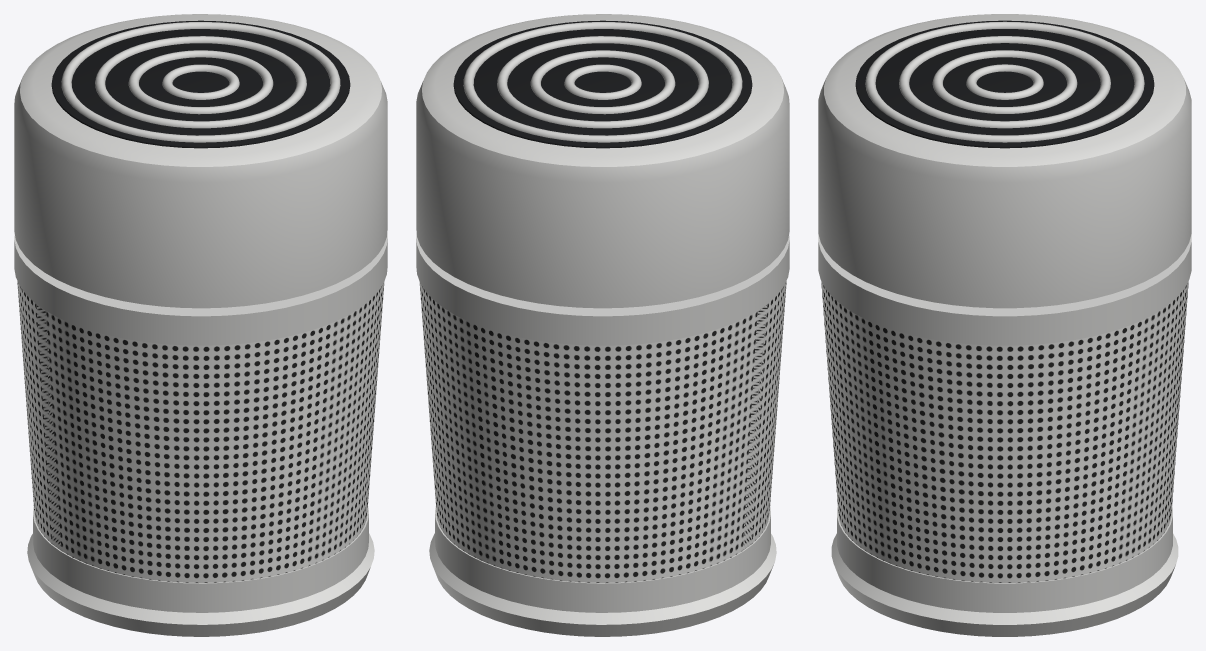
File: AS076MWHC.glb
3 views of the same model, side by side, from view 1: azimuth 30°, elevation 25°; view 2: azimuth 150°, elevation 25°; view 3: azimuth 270°, elevation 25° (orthographic).
Visible parts, largest first — view 1: AS076MWHC; view 2: AS076MWHC; view 3: AS076MWHC.
Part boxes in pixels (<box>): AS076MWHC: <box>14,14,387,636</box>; AS076MWHC: <box>416,14,789,636</box>; AS076MWHC: <box>818,14,1191,636</box>.
Size of the model in its own units: 0.25 by 0.36 by 0.25.
3 materials, 1 textured.
